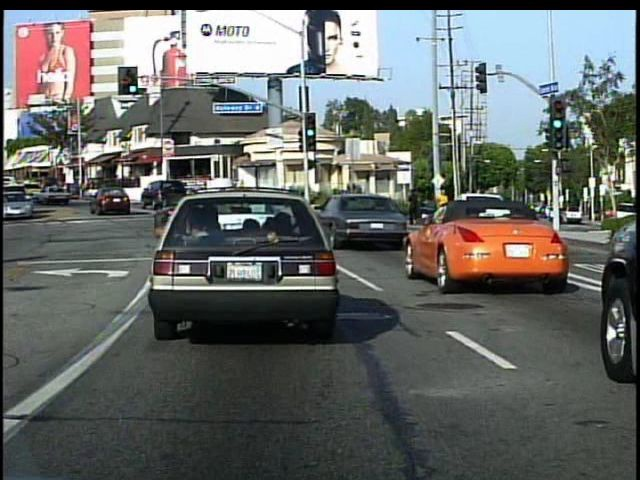person: (406, 189, 425, 229), (433, 187, 452, 225)
